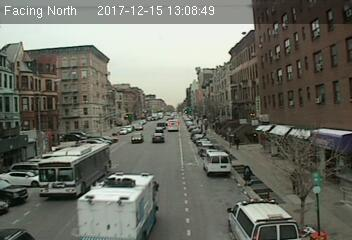bus: (38, 141, 110, 198)
car: (131, 132, 144, 143), (152, 132, 164, 142)
pedestrian: (242, 164, 253, 187)
police: (225, 197, 305, 240)
truck: (75, 172, 160, 240), (204, 151, 231, 176), (167, 120, 178, 132)
